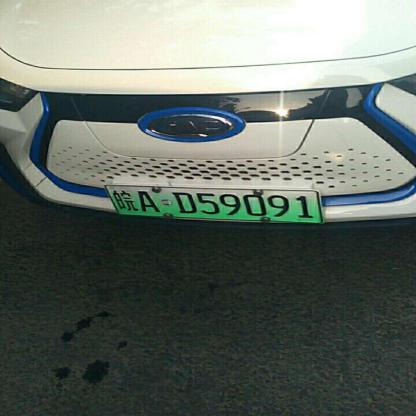lp: (104, 184, 324, 223)
